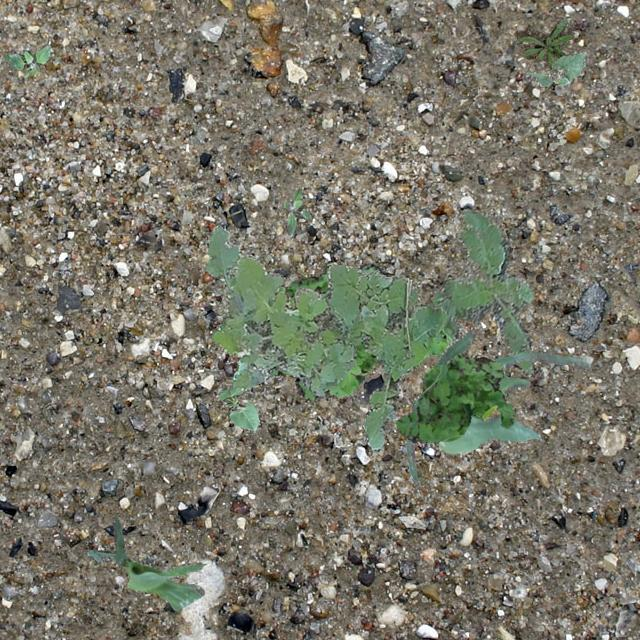crop: (406, 328, 590, 482), (86, 518, 205, 610), (522, 50, 586, 86), (215, 384, 258, 429)
weed: (205, 225, 448, 450), (270, 262, 450, 401), (432, 208, 532, 376), (394, 352, 514, 442), (514, 16, 572, 70), (2, 44, 50, 76), (284, 188, 310, 235)
